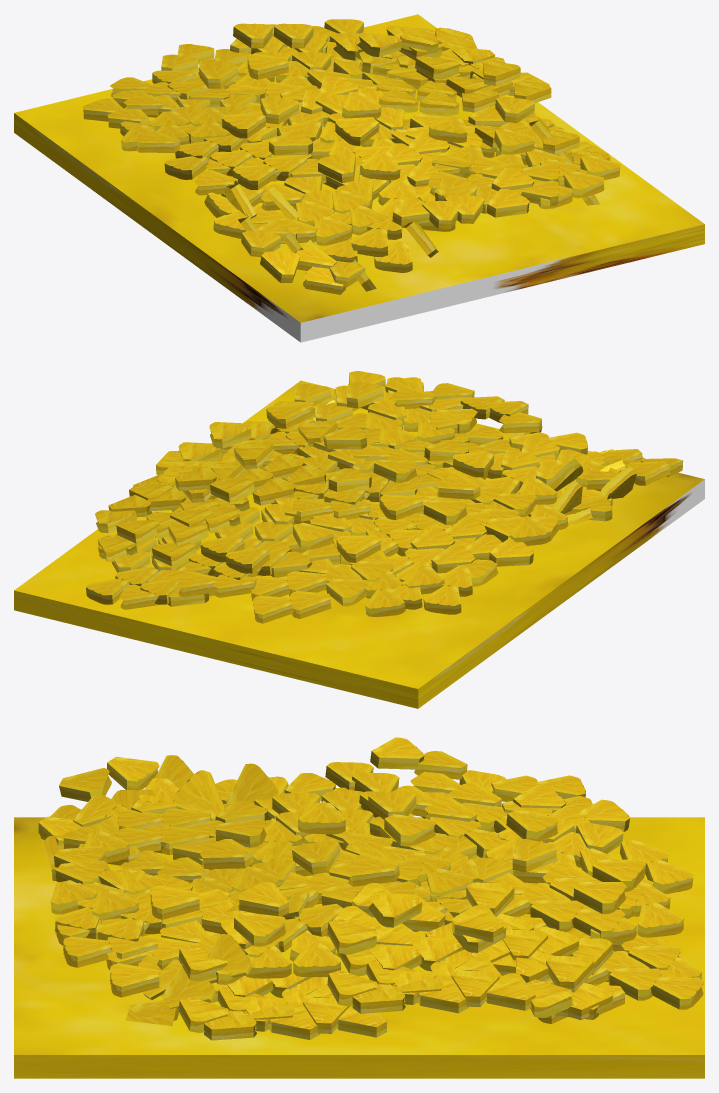
File: pinapple_1_hoopje.glb
3 renders of one model, top to bottom at view 1: azimuth 30°, elevation 25°; view 2: azimuth 150°, elevation 25°; view 3: azimuth 270°, elevation 25°, orthographic. The views are drawn at different scales.
Visible parts, largest first — view 1: Cube.580, Cube.588, Cube.012, Cube.589, Cube.528, Cube.590, Cube.594, Cube.593, Cube.004, Cube.584, Cube.403, Cube.374 (+62 smaller); view 2: Cube.580, Cube.585, Cube.435, Cube.440, Cube.436, Cube.434, Cube.596, Cube.439, Cube.471, Cube.592, Cube.593, Cube.594 (+73 smaller); view 3: Cube.580, Cube.005, Cube.595, Cube.597, Cube.599, Cube.586, Cube.516, Cube.598, Cube.573, Cube.583, Cube.596, Cube.431 (+124 smaller).
Part boxes in pixels (x1=…): Cube.580: x1=14, y1=14, x2=704, y2=342; Cube.588: x1=335, y1=117, x2=379, y2=145; Cube.012: x1=260, y1=251, x2=299, y2=282; Cube.589: x1=360, y1=150, x2=400, y2=180; Cube.528: x1=486, y1=189, x2=529, y2=217; Cube.590: x1=317, y1=153, x2=355, y2=183; Cube.594: x1=269, y1=130, x2=312, y2=155; Cube.593: x1=222, y1=112, x2=265, y2=138; Cube.004: x1=374, y1=241, x2=412, y2=272; Cube.584: x1=247, y1=53, x2=288, y2=79; Cube.403: x1=313, y1=216, x2=352, y2=245; Cube.374: x1=233, y1=164, x2=276, y2=189; Cube.580: x1=14, y1=380, x2=704, y2=708; Cube.585: x1=336, y1=535, x2=380, y2=562; Cube.435: x1=489, y1=537, x2=533, y2=566; Cube.440: x1=289, y1=591, x2=331, y2=618; Cube.436: x1=326, y1=578, x2=368, y2=606; Cube.434: x1=365, y1=587, x2=405, y2=617; Cube.596: x1=209, y1=422, x2=251, y2=448; Cube.439: x1=252, y1=595, x2=293, y2=623; Cube.471: x1=423, y1=585, x2=461, y2=614; Cube.592: x1=379, y1=494, x2=422, y2=519; Cube.593: x1=423, y1=500, x2=467, y2=524; Cube.594: x1=436, y1=474, x2=480, y2=499; Cube.580: x1=14, y1=817, x2=704, y2=1078; Cube.005: x1=174, y1=770, x2=225, y2=820; Cube.595: x1=368, y1=892, x2=421, y2=927; Cube.597: x1=452, y1=905, x2=503, y2=942; Cube.599: x1=234, y1=912, x2=286, y2=946; Cube.586: x1=573, y1=881, x2=626, y2=913; Cube.516: x1=110, y1=963, x2=159, y2=997; Cube.598: x1=150, y1=885, x2=199, y2=919; Cube.573: x1=651, y1=977, x2=703, y2=1009; Cube.583: x1=238, y1=882, x2=288, y2=916; Cube.596: x1=327, y1=919, x2=377, y2=954; Cube.431: x1=370, y1=737, x2=424, y2=769.
Size of the model in its own units: 1.04 by 0.2303 by 1.26.
270 materials, 270 textured.
